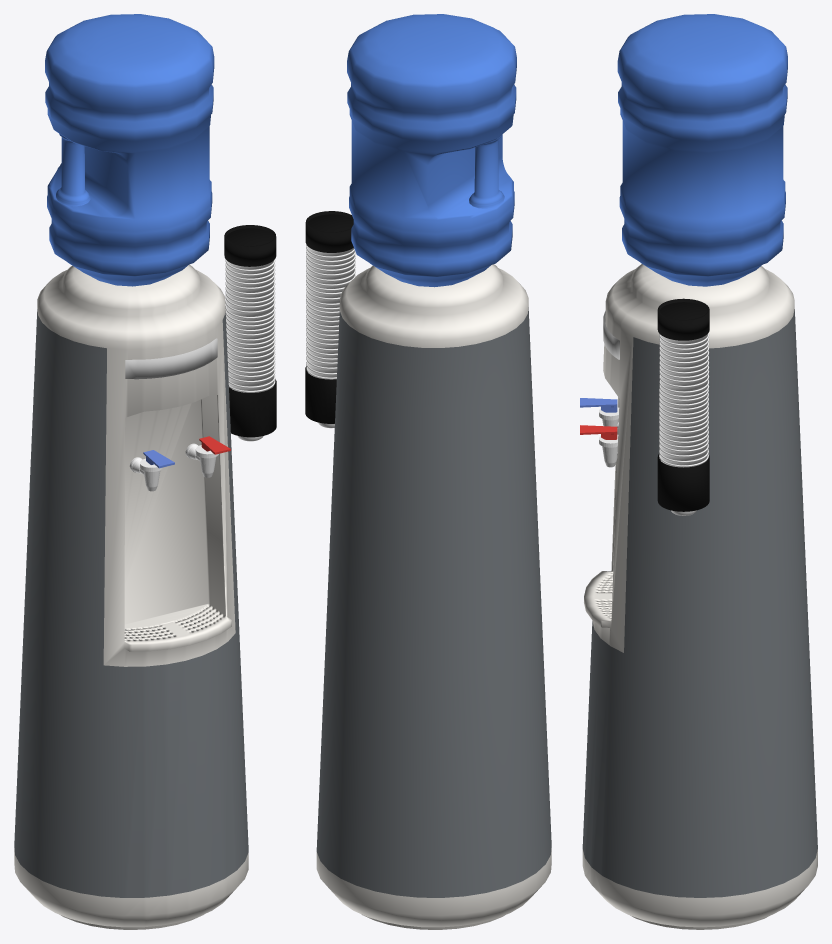
File: dispenser.fbx
3 views of the same model, side by side, from view 1: azimuth 30°, elevation 25°; view 2: azimuth 150°, elevation 25°; view 3: azimuth 270°, elevation 25° (orthographic).
Visible parts, largest first — view 1: Cylinder.007, Circle.001, Cylinder.025, Cube.004, Cylinder.014, Cube.002, Cylinder.011, Cylinder.016; view 2: Cylinder.007, Circle.001, Cylinder.025, Cylinder.014, Cube.004; view 3: Cylinder.007, Circle.001, Cylinder.025, Cube.004, Cylinder.014.
Part boxes in pixels (box(x1,y1,x2,y2)): Cylinder.007: box(14, 264, 248, 929); Circle.001: box(45, 14, 214, 286); Cylinder.025: box(225, 259, 275, 441); Cube.004: box(229, 379, 276, 437); Cylinder.014: box(224, 225, 276, 266); Cube.002: box(125, 338, 217, 379); Cylinder.011: box(185, 443, 218, 477); Cylinder.016: box(129, 457, 163, 491); Cylinder.007: box(316, 264, 551, 929); Circle.001: box(347, 14, 516, 287); Cylinder.025: box(306, 245, 355, 428); Cylinder.014: box(305, 211, 353, 252); Cube.004: box(305, 366, 336, 423); Cylinder.007: box(582, 264, 817, 929); Circle.001: box(617, 14, 787, 286); Cylinder.025: box(659, 333, 709, 515); Cube.004: box(657, 454, 709, 511); Cylinder.014: box(657, 298, 709, 340).
Size of the model in its own units: 39.3 by 136 by 34.38.
